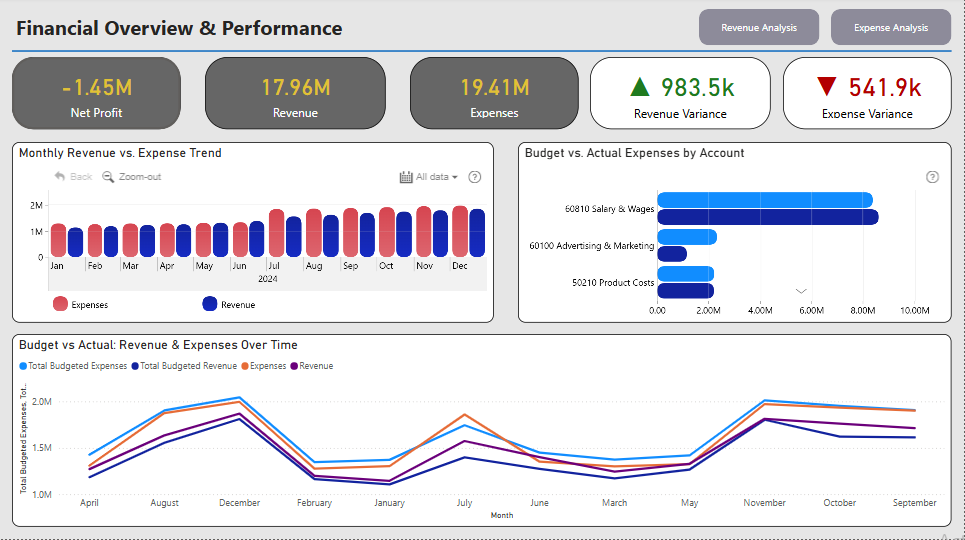

Layout of this report page (visuals, bound fields, positions):
{"tool":"powerbi","page":{"name":"Overview","canvas":[1280,720],"ordinal":0},"visuals":[{"type":"ZoomChartsDrillDownTimelinePro7F6C01BA1C534E9AB4A6BCCB44F591","title":"Monthly Revenue vs. Expense Trend","fields":{"Values1":["MeasuresTable.Expenses"],"Values2":["MeasuresTable.Revenue"],"Category":["DateTable.Month","DateTable.Quarter"],"DateValue":["Max(DateTable.Date)"]},"box":[16,192,640,240],"z":0},{"type":"textbox","box":[16,16,672,48],"z":2000},{"type":"lineChart","title":"Budget vs Actual: Revenue & Expenses Over Time","fields":{"Category":["DateTable.Month","DateTable.Quarter"],"Y":["MeasuresTable.Total Budgeted Expenses","MeasuresTable.Total Budgeted Revenue","MeasuresTable.Expenses","MeasuresTable.Revenue"]},"box":[16,448,1248,256],"z":3000},{"type":"shape","box":[16,64,1248,16],"z":4000},{"type":"ZoomChartsDrillDownComboBarProE77E4ED357DC402ABA005987437CF8","title":"Budget vs. Actual Expenses by Account","fields":{"Category":["Accounts.ACCOUNT"],"Values1":["MeasuresTable.Total Budgeted Expenses"],"Values2":["MeasuresTable.Expenses"]},"box":[688,192,576,240],"z":5000},{"type":"card","fields":{"Values":["MeasuresTable.Total Revenue"]},"box":[272,80,240,96],"z":6000},{"type":"card","fields":{"Values":["MeasuresTable.Total Expenses"]},"box":[544,80,224,96],"z":7000},{"type":"card","fields":{"Values":["MeasuresTable.Revenue Variance (Text)"]},"box":[784,80,240,96],"z":8000},{"type":"card","fields":{"Values":["MeasuresTable.Net Profit"]},"box":[16,80,224,96],"z":9000},{"type":"card","fields":{"Values":["MeasuresTable.Expense Variance (Text)"]},"box":[1040,80,224,96],"z":10000},{"type":"actionButton","box":[16,80,224,96],"z":12000},{"type":"actionButton","box":[272,80,240,96],"z":13000},{"type":"actionButton","box":[544,80,224,96],"z":14000},{"type":"actionButton","box":[784,80,240,96],"z":15000},{"type":"actionButton","box":[1040,80,224,96],"z":16000},{"type":"actionButton","title":"Show Revenue Analysis","box":[928,16,160,48],"z":17000},{"type":"actionButton","box":[1104,16,160,48],"z":18000}]}

Visuals, with their boxes in screenshot pixels (x1, y1, x2, y2), scaled from the page's 1280x720 canvas onto the 965x540 screenshot:
"Monthly Revenue vs. Expense Trend" ZoomChartsDrillDownTimelinePro7F6C01BA1C534E9AB4A6BCCB44F591: {"left": 12, "top": 144, "right": 495, "bottom": 324}
textbox: {"left": 12, "top": 12, "right": 519, "bottom": 48}
"Budget vs Actual: Revenue & Expenses Over Time" lineChart: {"left": 12, "top": 336, "right": 953, "bottom": 528}
shape: {"left": 12, "top": 48, "right": 953, "bottom": 60}
"Budget vs. Actual Expenses by Account" ZoomChartsDrillDownComboBarProE77E4ED357DC402ABA005987437CF8: {"left": 519, "top": 144, "right": 953, "bottom": 324}
card - MeasuresTable.Total Revenue: {"left": 205, "top": 60, "right": 386, "bottom": 132}
card - MeasuresTable.Total Expenses: {"left": 410, "top": 60, "right": 579, "bottom": 132}
card - MeasuresTable.Revenue Variance (Text): {"left": 591, "top": 60, "right": 772, "bottom": 132}
card - MeasuresTable.Net Profit: {"left": 12, "top": 60, "right": 181, "bottom": 132}
card - MeasuresTable.Expense Variance (Text): {"left": 784, "top": 60, "right": 953, "bottom": 132}
actionButton: {"left": 12, "top": 60, "right": 181, "bottom": 132}
actionButton: {"left": 205, "top": 60, "right": 386, "bottom": 132}
actionButton: {"left": 410, "top": 60, "right": 579, "bottom": 132}
actionButton: {"left": 591, "top": 60, "right": 772, "bottom": 132}
actionButton: {"left": 784, "top": 60, "right": 953, "bottom": 132}
"Show Revenue Analysis" actionButton: {"left": 700, "top": 12, "right": 820, "bottom": 48}
actionButton: {"left": 832, "top": 12, "right": 953, "bottom": 48}
